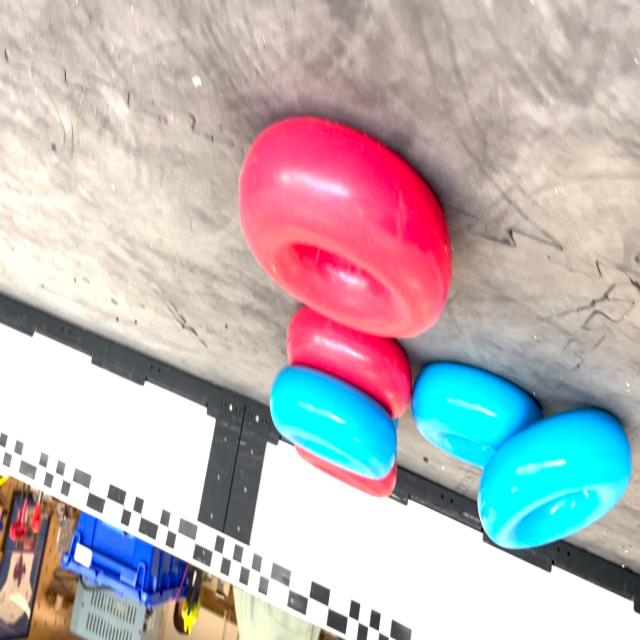Blue-Ring: (478, 409, 631, 549), (270, 364, 396, 480), (411, 362, 542, 467)
Red-Ring: (239, 118, 451, 338), (286, 307, 411, 418)
